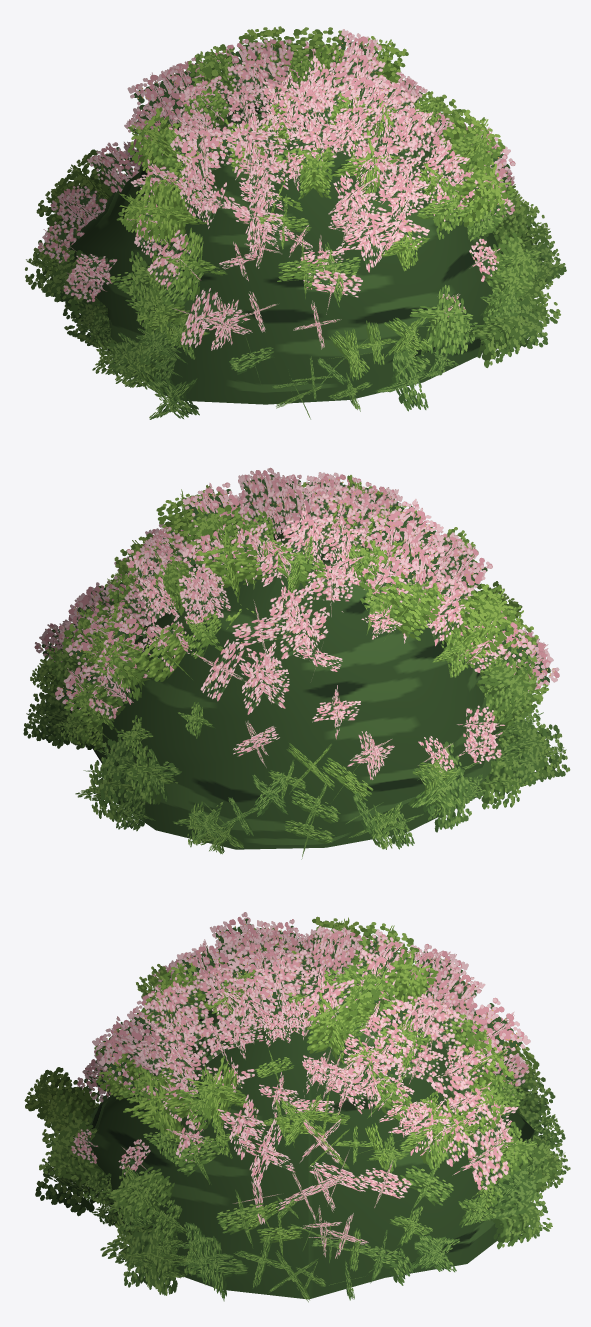
3 views of the same model, one above another, from view 1: azimuth 30°, elevation 25°; view 2: azimuth 150°, elevation 25°; view 3: azimuth 270°, elevation 25° (orthographic).
Parts seen in each view (by area): view 1: Mesh_shrub; view 2: Mesh_shrub; view 3: Mesh_shrub.
Boxes of the visible parts, left/top/right/bottom form: Mesh_shrub: left=25, top=26, right=566, bottom=419; Mesh_shrub: left=23, top=467, right=570, bottom=859; Mesh_shrub: left=24, top=912, right=570, bottom=1302.
Size of the model in its own units: 1.96 by 1.21 by 1.98.
Materials: 1 (1 with a texture image).
